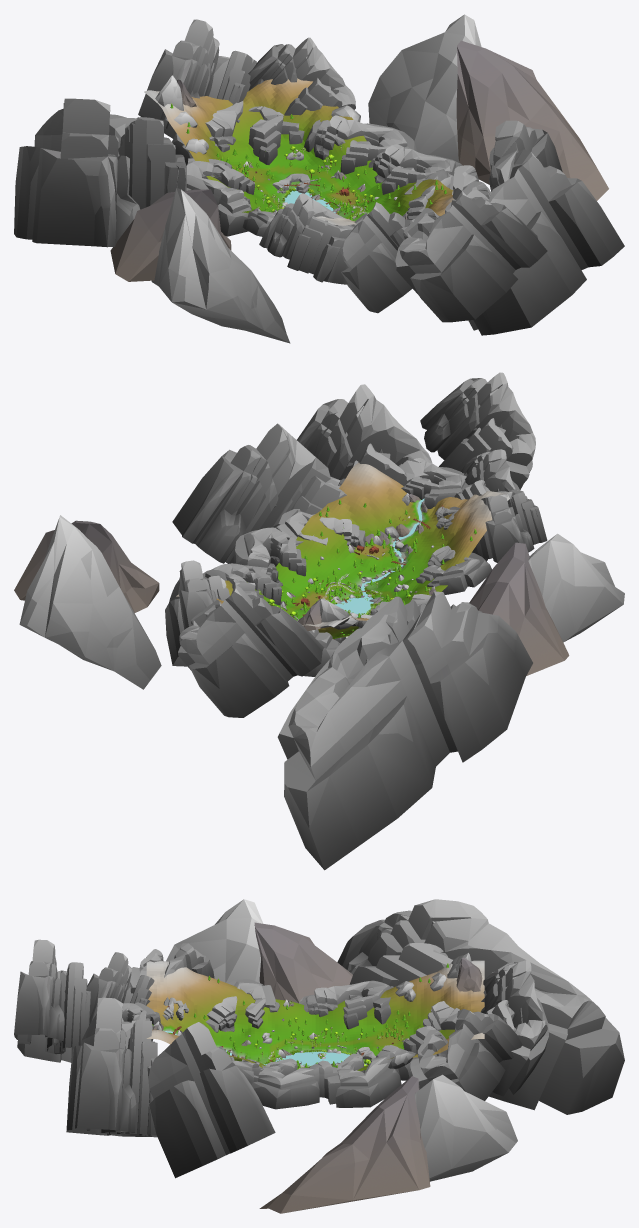
Rendered from Mountain Environment.fbx.
3 views of the same model, one above another, from view 1: azimuth 30°, elevation 25°; view 2: azimuth 150°, elevation 25°; view 3: azimuth 270°, elevation 25° (orthographic). The views are drawn at different scales.
Parts seen in each view (by area): view 1: samor_4077_18, samor_4077_16, samor_4077_17, samor_4077_13, samor_4077_599, samor_4077_10, samor_4077_14, samor_4077_09, samor_4077_12, samor_4077_15, samor_4077_01, samor_4077_06 (+7 smaller); view 2: samor_4077_16, samor_4077_599, samor_4077_18, samor_4077_11, samor_4077_14, samor_4077_17, samor_4077_10, samor_4077_13, samor_4077_12, samor_4077_15, samor_4077_07, samor_4077_03 (+6 smaller); view 3: samor_4077_16, samor_4077_18, samor_4077_599, samor_4077_11, samor_4077_13, samor_4077_17, samor_4077_10, samor_4077_15, samor_4077_14, samor_4077_01, samor_4077_07, samor_4077_05 (+7 smaller).
Part boxes in pixels (bbox=[...]): samor_4077_18: bbox=[368, 14, 608, 200]; samor_4077_16: bbox=[14, 98, 186, 247]; samor_4077_17: bbox=[110, 188, 290, 343]; samor_4077_13: bbox=[445, 149, 624, 335]; samor_4077_599: bbox=[144, 78, 453, 225]; samor_4077_10: bbox=[395, 188, 547, 322]; samor_4077_14: bbox=[138, 19, 256, 138]; samor_4077_09: bbox=[340, 202, 413, 313]; samor_4077_12: bbox=[259, 193, 354, 284]; samor_4077_15: bbox=[238, 37, 355, 115]; samor_4077_01: bbox=[304, 115, 417, 174]; samor_4077_06: bbox=[172, 101, 304, 165]; samor_4077_16: bbox=[277, 591, 532, 870]; samor_4077_599: bbox=[176, 462, 511, 638]; samor_4077_18: bbox=[14, 515, 161, 689]; samor_4077_11: bbox=[172, 423, 346, 563]; samor_4077_14: bbox=[178, 584, 323, 717]; samor_4077_17: bbox=[469, 533, 624, 675]; samor_4077_10: bbox=[420, 372, 535, 489]; samor_4077_13: bbox=[297, 384, 432, 486]; samor_4077_12: bbox=[476, 489, 547, 562]; samor_4077_15: bbox=[165, 560, 229, 666]; samor_4077_07: bbox=[233, 527, 306, 586]; samor_4077_03: bbox=[416, 545, 491, 594]; samor_4077_16: bbox=[337, 899, 624, 1114]; samor_4077_18: bbox=[259, 1074, 517, 1213]; samor_4077_599: bbox=[146, 960, 484, 1071]; samor_4077_11: bbox=[147, 1022, 275, 1178]; samor_4077_13: bbox=[66, 997, 157, 1137]; samor_4077_17: bbox=[166, 899, 352, 1044]; samor_4077_10: bbox=[14, 939, 90, 1062]; samor_4077_15: bbox=[410, 1009, 522, 1100]; samor_4077_14: bbox=[481, 960, 548, 1096]; samor_4077_01: bbox=[327, 1045, 418, 1107]; samor_4077_07: bbox=[251, 1058, 338, 1109]; samor_4077_05: bbox=[299, 980, 393, 1029].
Bounding box in the file's own units: 129331 × 58289 × 147434.
Materials: 502 (501 with a texture image).
